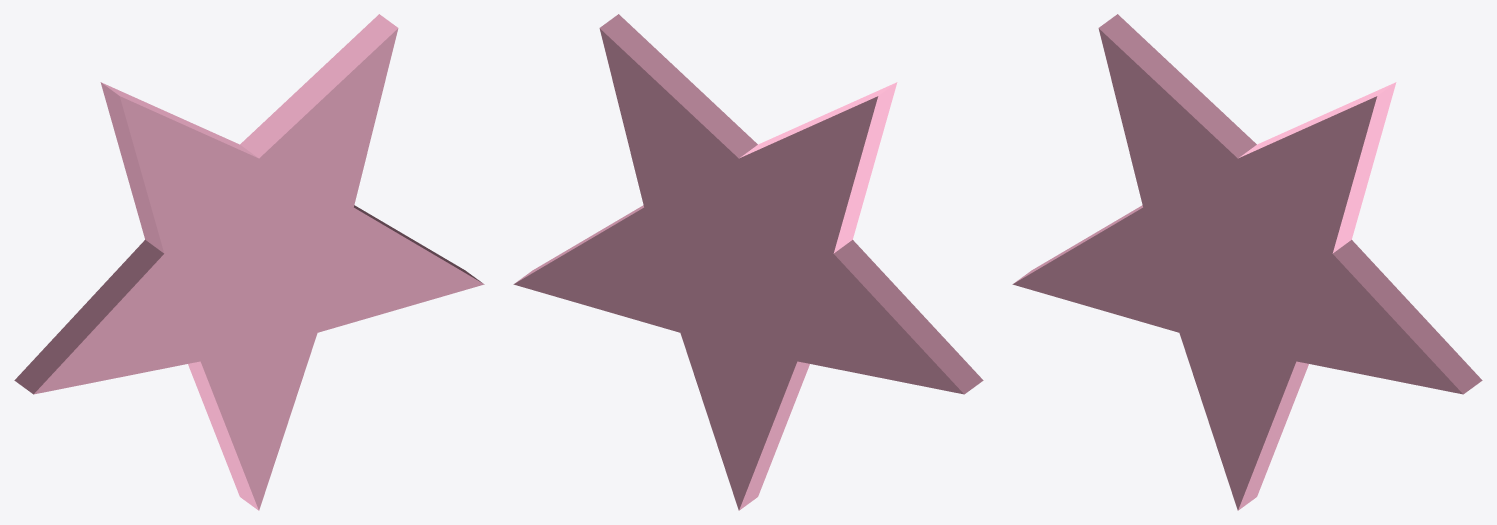
File: badge_boo.glb
3 renders of one model, left to right at view 1: azimuth 30°, elevation 25°; view 2: azimuth 150°, elevation 25°; view 3: azimuth 330°, elevation 25°, orthographic.
Visible parts, largest first — view 1: badge; view 2: badge; view 3: badge.
Boxes of the visible parts, box(x1,y1,x2,y2) form: badge: box(14, 14, 484, 510); badge: box(513, 14, 983, 510); badge: box(1012, 14, 1482, 510).
Size of the model in its own units: 1.9 by 1.81 by 0.14.
